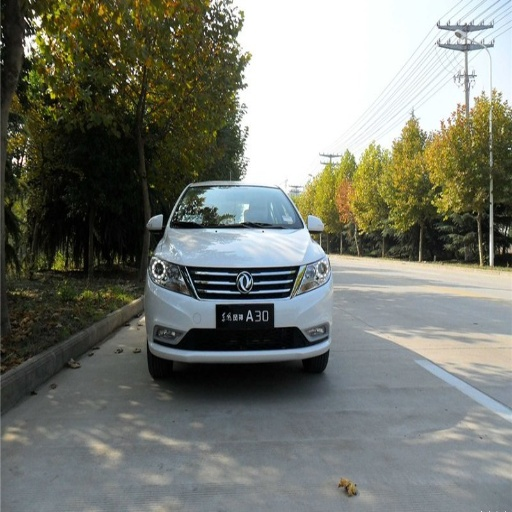front_bumper: (147, 264, 334, 365)
hood: (159, 227, 318, 266)
